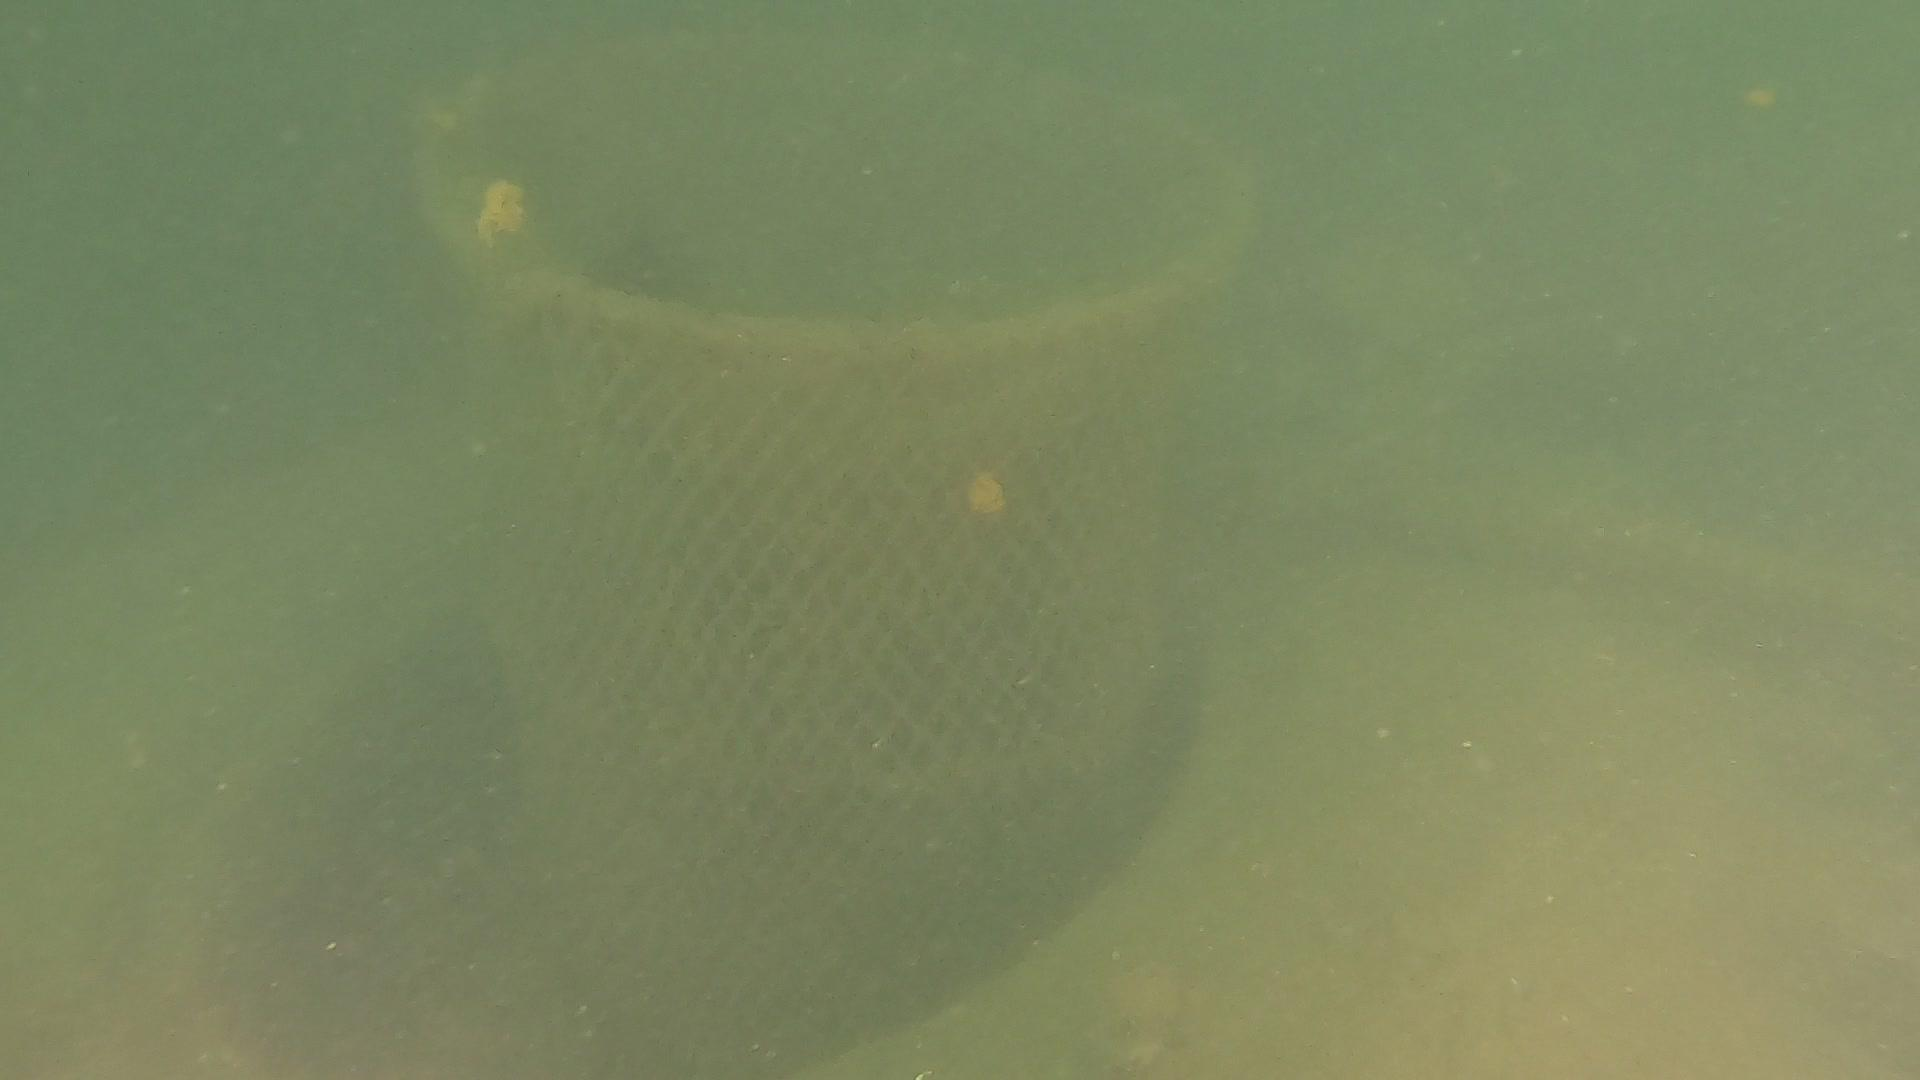spring fish trap: (407, 32, 1257, 1080)
tire: (0, 392, 1920, 1080)
